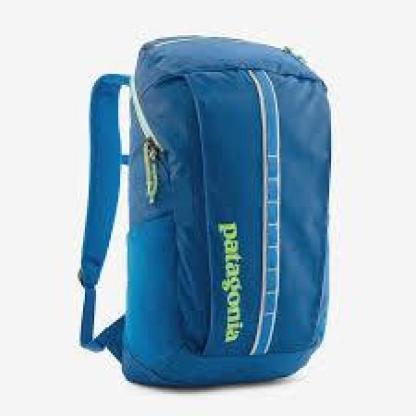bag: (78, 29, 338, 392)
